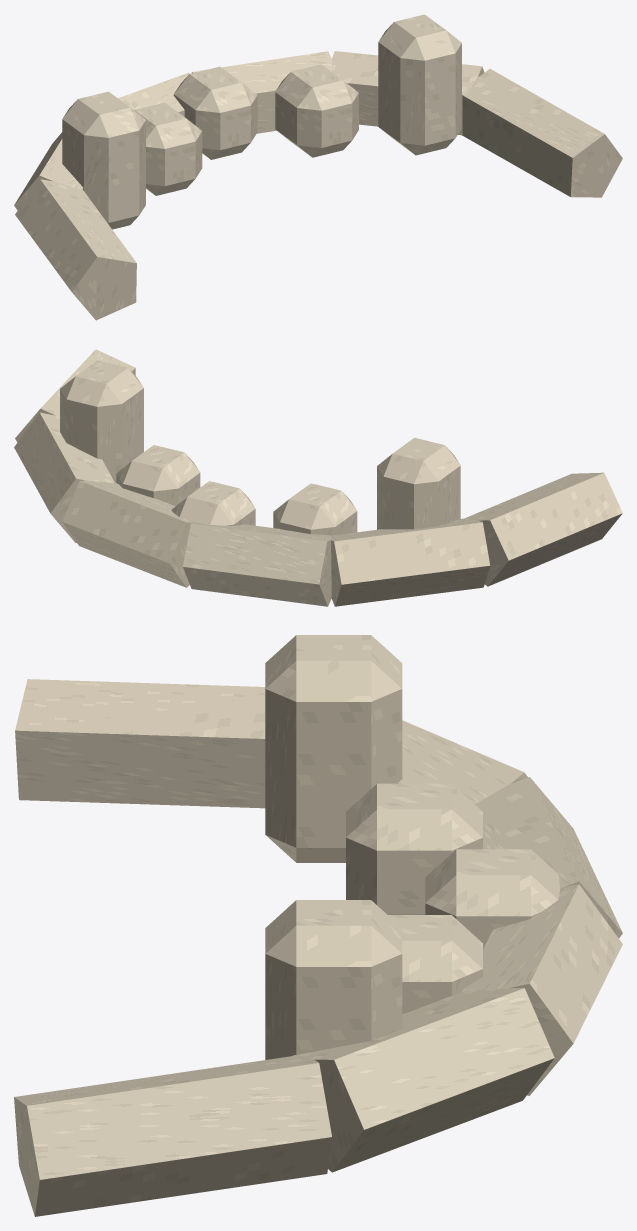
Rendered from vampire_fangs.glb.
3 views of the same model, one above another, from view 1: azimuth 30°, elevation 25°; view 2: azimuth 150°, elevation 25°; view 3: azimuth 270°, elevation 25° (orthographic). The views are drawn at different scales.
Visible parts, largest first — view 1: block_tooth cap (×5), block_dental curve 5, block_dental curve 0, block_dental curve 3, block_dental curve 4, block_dental curve 1, block_dental curve 2; view 2: block_tooth cap (×5), block_dental curve 1, block_dental curve 2, block_dental curve 0, block_dental curve 3, block_dental curve 4, block_dental curve 5; view 3: block_tooth cap (×5), block_dental curve 5, block_dental curve 0, block_dental curve 4, block_dental curve 3, block_dental curve 2, block_dental curve 1.
Part boxes in pixels (left/top/right/bottom): block_tooth cap (×5): left=62, top=14, right=461, bottom=229; block_dental curve 5: left=462, top=69, right=622, bottom=197; block_dental curve 0: left=15, top=179, right=136, bottom=320; block_dental curve 3: left=192, top=51, right=332, bottom=133; block_dental curve 4: left=331, top=51, right=484, bottom=135; block_dental curve 1: left=14, top=132, right=83, bottom=210; block_dental curve 2: left=118, top=72, right=189, bottom=116; block_tooth cap (×5): left=60, top=360, right=460, bottom=535; block_dental curve 1: left=331, top=518, right=490, bottom=606; block_dental curve 2: left=183, top=522, right=331, bottom=606; block_dental curve 0: left=465, top=472, right=622, bottom=586; block_dental curve 3: left=62, top=480, right=193, bottom=587; block_dental curve 4: left=14, top=412, right=114, bottom=542; block_dental curve 5: left=15, top=349, right=135, bottom=442; block_tooth cap (×5): left=265, top=635, right=560, bottom=1059; block_dental curve 5: left=14, top=1056, right=331, bottom=1216; block_dental curve 0: left=15, top=679, right=265, bottom=808; block_dental curve 4: left=290, top=988, right=554, bottom=1172; block_dental curve 3: left=462, top=884, right=622, bottom=1095; block_dental curve 2: left=475, top=777, right=622, bottom=938; block_dental curve 1: left=397, top=720, right=527, bottom=804.
Size of the model in its own units: 0.1795 by 0.0407 by 0.1.
1 material, 1 textured.
